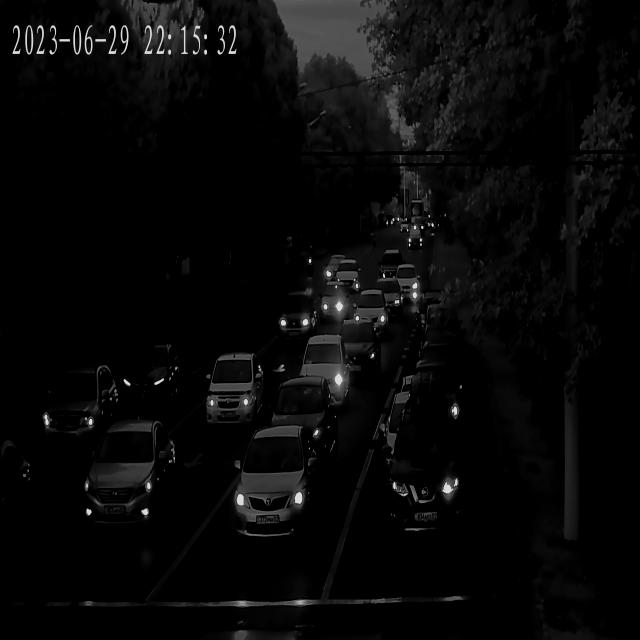Car: (383, 399, 468, 546), (83, 422, 179, 536), (233, 431, 319, 545), (257, 380, 340, 478), (40, 368, 118, 452), (102, 342, 186, 418), (204, 350, 267, 430), (289, 339, 347, 415), (396, 369, 465, 431), (318, 320, 381, 380), (0, 438, 31, 552), (406, 352, 464, 400), (276, 298, 322, 348), (419, 328, 469, 371), (348, 294, 388, 340), (366, 278, 404, 318), (308, 288, 348, 324), (326, 258, 360, 291), (389, 266, 419, 296), (376, 253, 400, 282), (407, 232, 425, 251)
